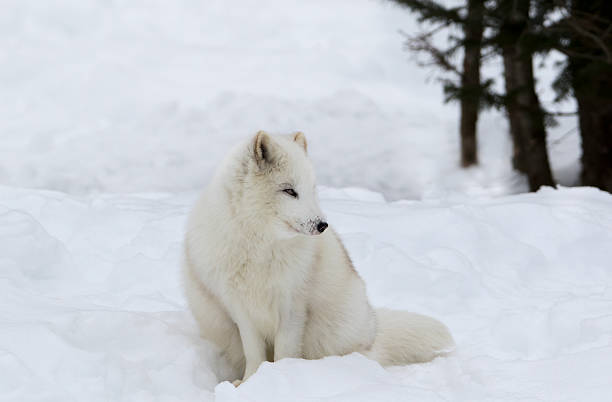arcticfox: (259, 150, 344, 253)
